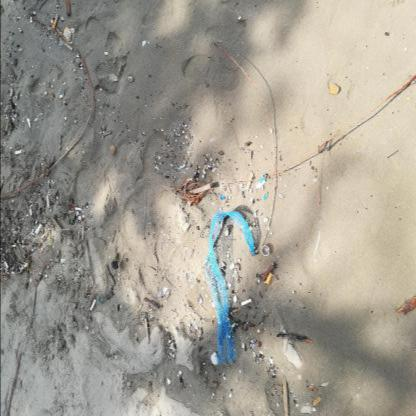Bottle: (260, 245, 268, 256)
Cigarette: (52, 15, 59, 29), (265, 272, 273, 284), (35, 224, 43, 234), (89, 300, 96, 311), (46, 196, 50, 207), (4, 261, 9, 269), (15, 150, 22, 154), (62, 100, 66, 104), (11, 245, 16, 247)
Other litter: (205, 211, 256, 365)
Other plastic: (259, 174, 266, 183), (220, 194, 225, 199)
Unlabeled litter: (241, 299, 252, 306), (157, 290, 163, 298), (252, 342, 254, 349)
